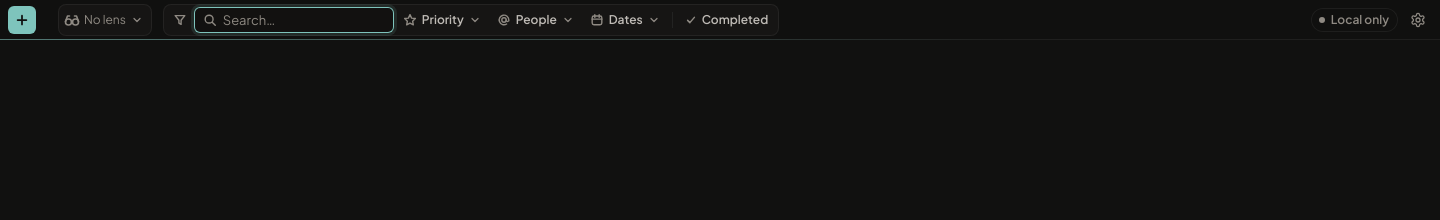
TopBar grouped search › renders groups for Title / Notes matches with counts and icons
In the field with placeholder "Search…": (294, 20) 194,6 -> 394,32, type "buy"
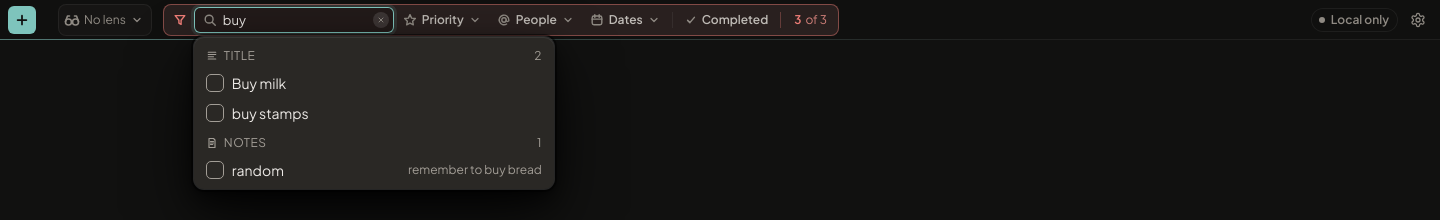
Check: the text "Title" is shown, box 224,46 -> 255,64
Check: the text "Notes" is shown, box 224,134 -> 267,152
Check: the text "2" is shown, box 534,46 -> 542,64
